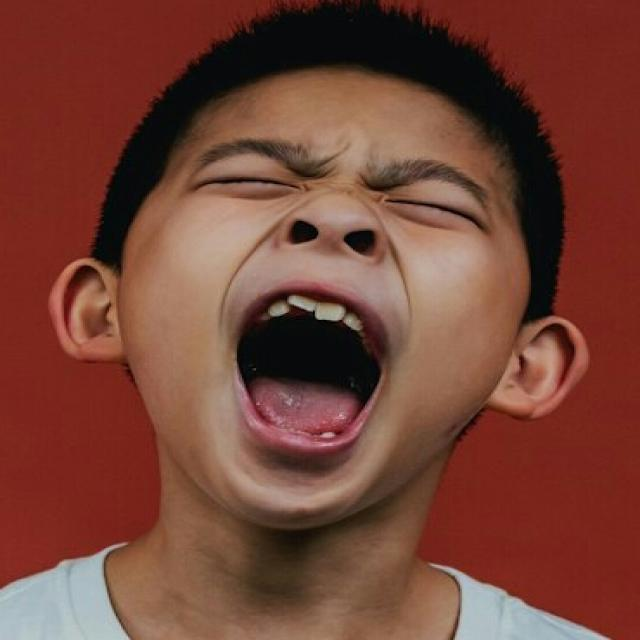front: (175, 133, 489, 506)
